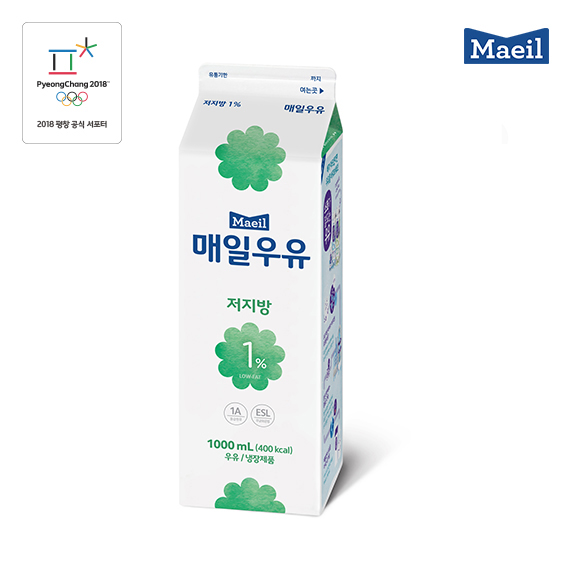milk: (179, 63, 343, 518)
